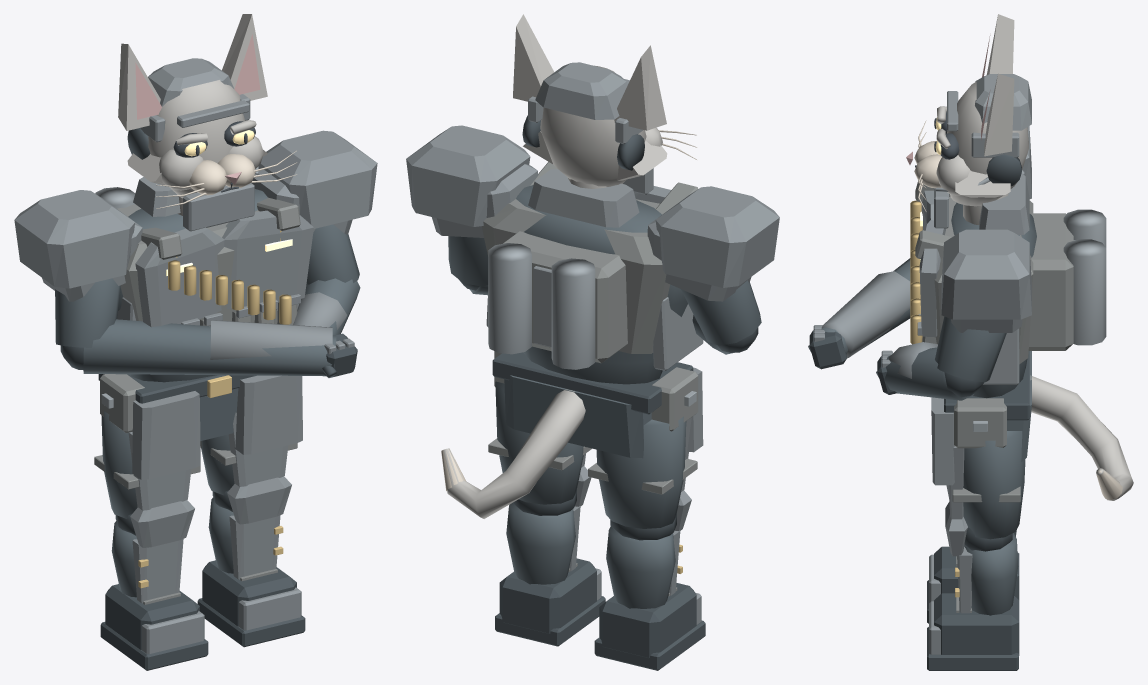
File: cat_heavy.glb
3 views of the same model, side by side, from view 1: azimuth 30°, elevation 25°; view 2: azimuth 150°, elevation 25°; view 3: azimuth 270°, elevation 25° (orthographic). The views are drawn at different scales.
Visible parts, largest first — view 1: shoulder_extra_L_125, forearm_L_63, shoulder_extra_R_128, chest_plate_16, chest_plate_3, thigh_blast_126, thigh_blast_129, head_86, forearm_guard_L_67, upper_arm_L_62, boot_39, boot_54 (+42 smaller); view 2: shoulder_extra_L_125, shoulder_extra_R_128, thigh_32, carrier_2, torso_1, tail_121, pelvis_31, backpack_123, backpack_canister_127, head_86, backpack_canister_130, boot_54 (+25 smaller); view 3: shoulder_extra_R_128, backpack_123, thigh_47, tail_121, boot_54, forearm_guard_L_67, backpack_canister_130, upper_arm_R_73, calf_52, head_86, hip_pouch_27, forearm_R_74 (+32 smaller).
Boxes of the visible parts, left/top/right/bottom form: shoulder_extra_L_125: left=14, top=190, right=134, bottom=288; forearm_L_63: left=83, top=319, right=336, bottom=376; shoulder_extra_R_128: left=258, top=130, right=377, bottom=228; chest_plate_16: left=222, top=210, right=313, bottom=308; chest_plate_3: left=135, top=227, right=224, bottom=327; thigh_blast_126: left=132, top=391, right=200, bottom=479; thigh_blast_129: left=234, top=375, right=302, bottom=454; head_86: left=148, top=80, right=245, bottom=198; forearm_guard_L_67: left=210, top=320, right=332, bottom=359; upper_arm_L_62: left=55, top=278, right=120, bottom=347; boot_39: left=105, top=584, right=199, bottom=649; boot_54: left=202, top=560, right=296, bottom=626; shoulder_extra_L_125: left=655, top=186, right=779, bottom=287; shoulder_extra_R_128: left=406, top=125, right=530, bottom=226; thigh_32: left=596, top=416, right=686, bottom=528; carrier_2: left=481, top=199, right=669, bottom=353; torso_1: left=516, top=185, right=687, bottom=384; tail_121: left=443, top=389, right=585, bottom=518; pelvis_31: left=504, top=375, right=651, bottom=458; backpack_123: left=503, top=231, right=627, bottom=363; backpack_canister_127: left=551, top=258, right=595, bottom=369; head_86: left=540, top=65, right=646, bottom=186; backpack_canister_130: left=488, top=243, right=531, bottom=354; boot_54: left=499, top=558, right=596, bottom=633; shoulder_extra_R_128: left=941, top=229, right=1031, bottom=319; backpack_123: left=1028, top=213, right=1073, bottom=350; thigh_47: left=963, top=431, right=1025, bottom=539; tail_121: left=1030, top=375, right=1133, bottom=500; boot_54: left=934, top=593, right=1019, bottom=655; forearm_guard_L_67: left=821, top=271, right=910, bottom=357; backpack_canister_130: left=1063, top=239, right=1106, bottom=345; upper_arm_R_73: left=935, top=316, right=1006, bottom=382; calf_52: left=964, top=533, right=1018, bottom=615; head_86: left=947, top=81, right=1028, bottom=206; hip_pouch_27: left=954, top=398, right=1006, bottom=448; forearm_R_74: left=884, top=347, right=973, bottom=400.
Size of the model in its own units: 1.5 by 2.59 by 1.29.
